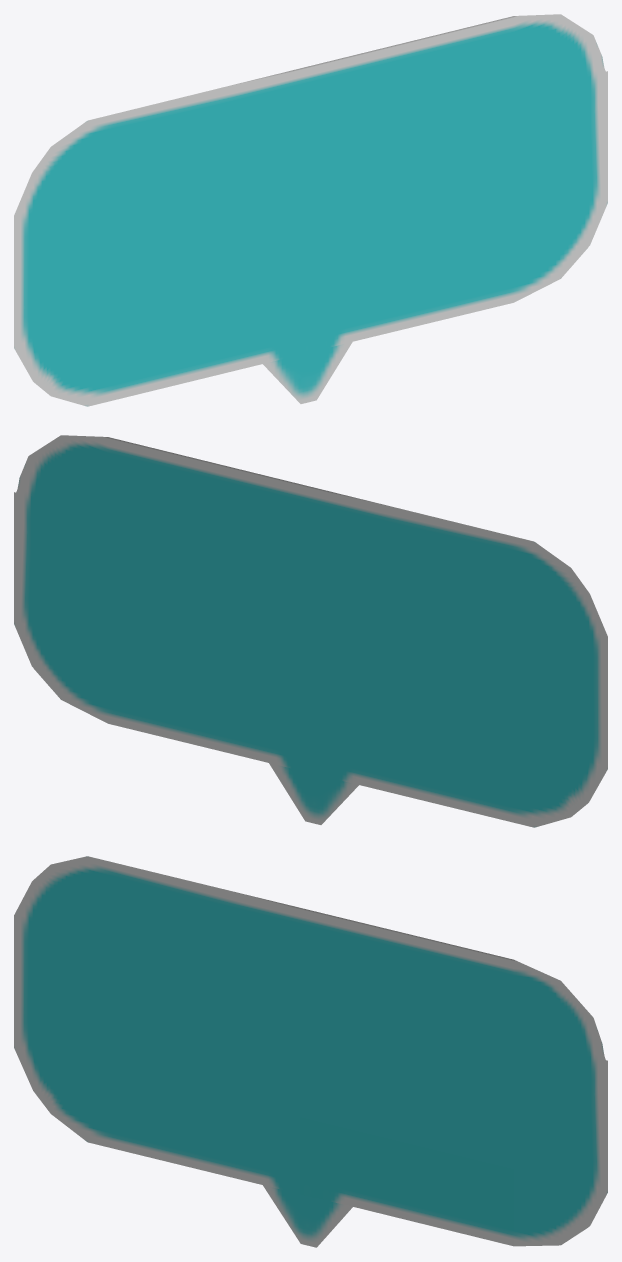
File: popup.fbx
The picture shows the model from 3 angles, top to bottom: view 1: azimuth 30°, elevation 25°; view 2: azimuth 150°, elevation 25°; view 3: azimuth 330°, elevation 25°; orthographic projection.
Parts seen in each view (by area): view 1: Plane; view 2: Plane; view 3: Plane.
Boxes of the visible parts, box(x1,y1,x2,y2) form: Plane: box(14, 14, 607, 406); Plane: box(14, 435, 607, 827); Plane: box(14, 856, 607, 1247).
Bounding box in the file's own units: 158 × 0.0809 × 85.49.
